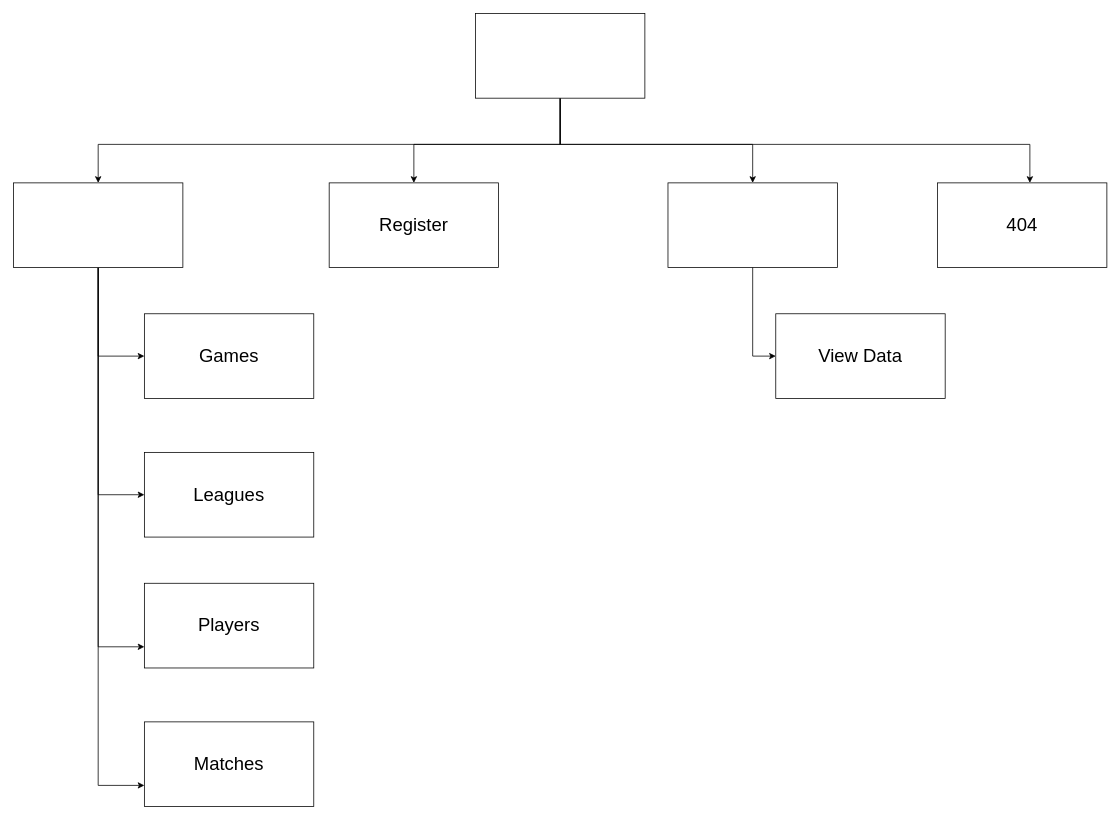
This 1120x820 diagram has some shape labels left out. Here are the shapes that lost their labels. From the top down, the centre of each, then its label:
At point 560,55: "Index".
At point 98,225: "Search results".
At point 752,225: "Log in".
